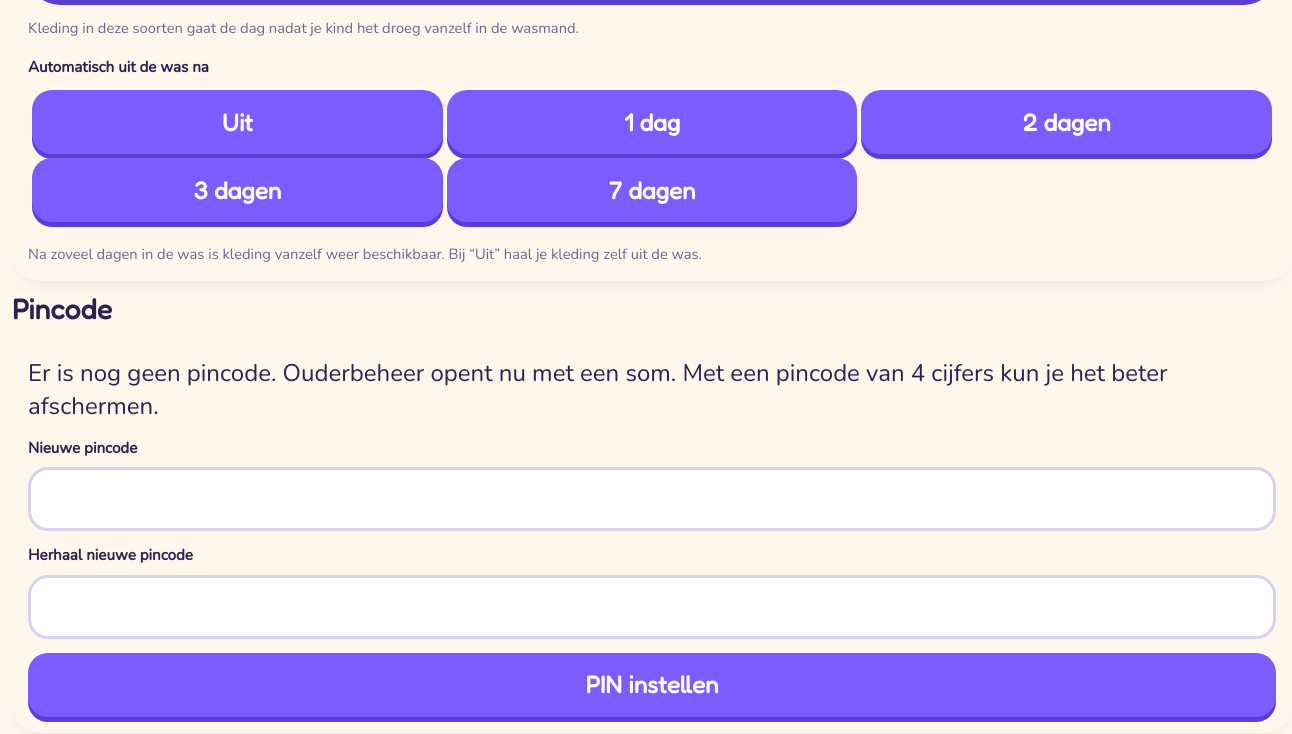
Test: pincode instellen › weigert een PIN die geen 4 cijfers is
The image size is (1292, 734).
(page scrolled)
Expected: the button "PIN instellen" is shown, top-left (28, 653), bottom-right (1276, 717)
In the password field labelled "Nieuwe pincode": (652, 499) top-left (28, 467), bottom-right (1276, 531), type "12a"
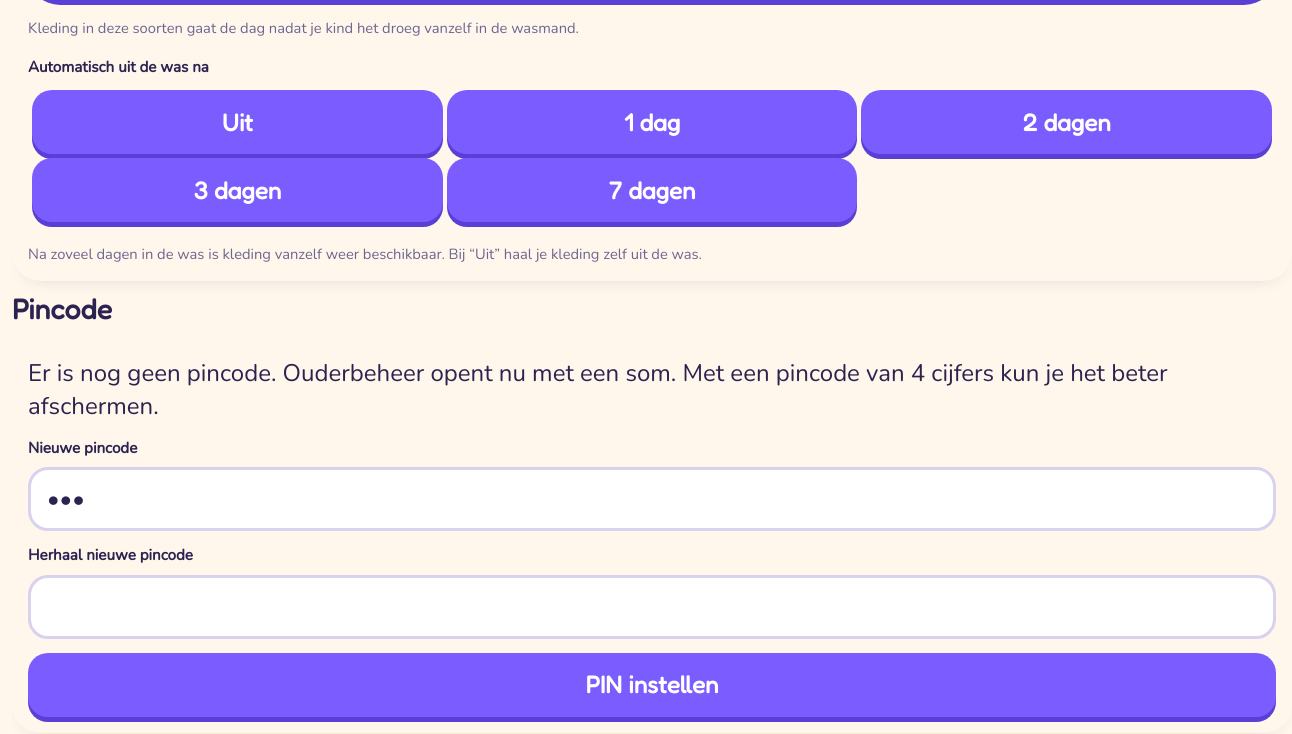
In the password field labelled "Herhaal nieuwe pincode": (652, 607) top-left (28, 575), bottom-right (1276, 639), type "12a"
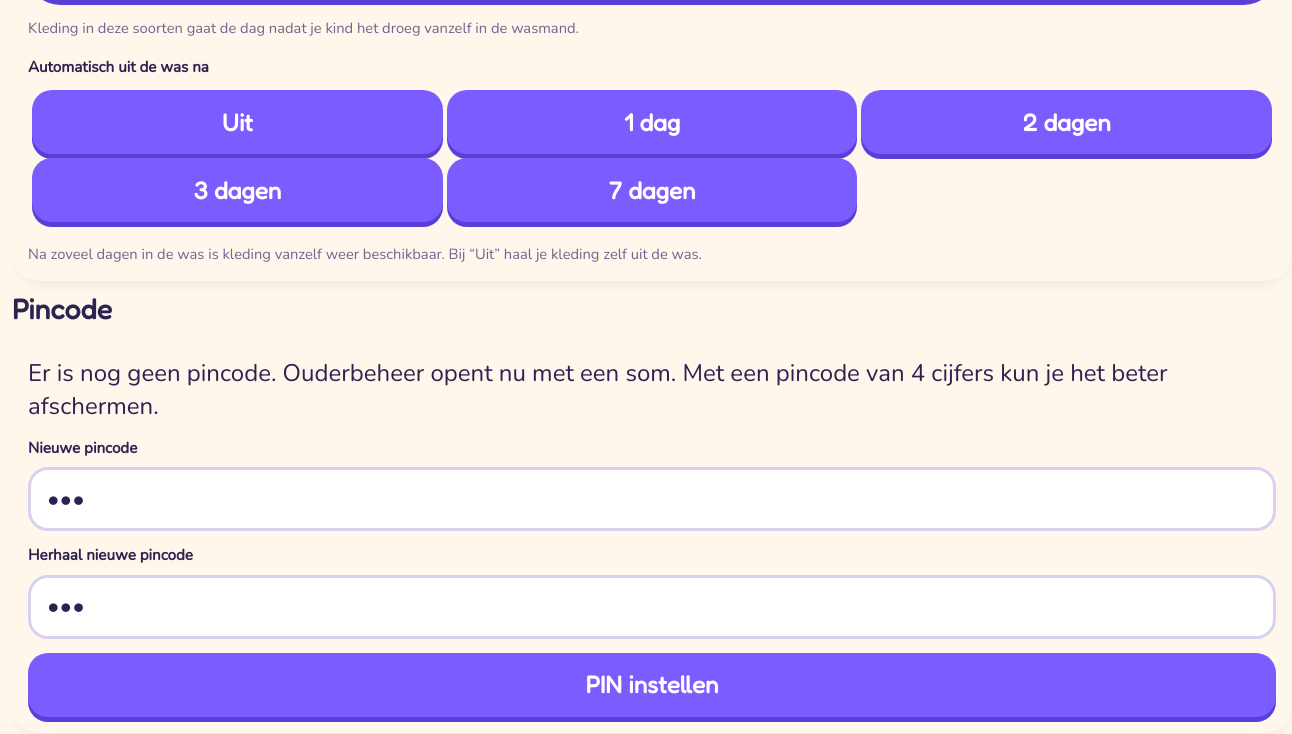
Click the button "PIN instellen": (652, 685) top-left (28, 653), bottom-right (1276, 717)
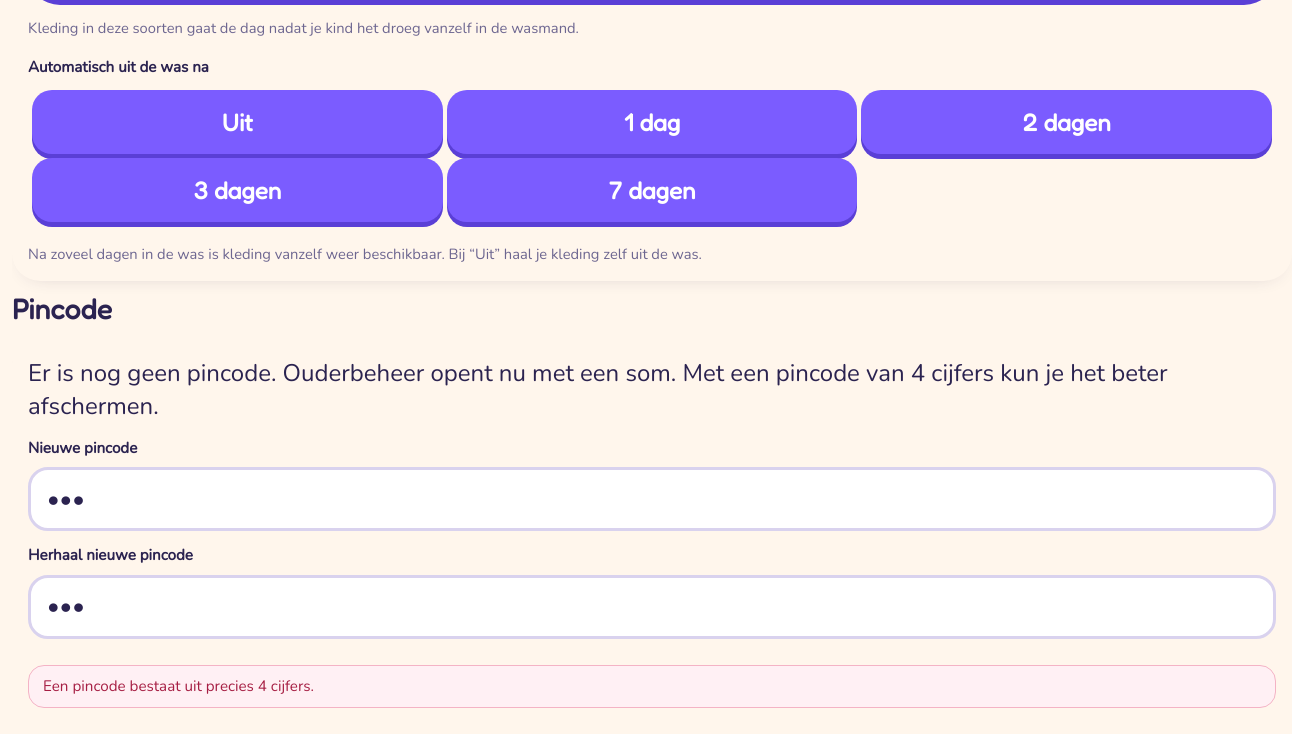
Now the message shows "precies 4 cijfers", box top-left (43, 676), bottom-right (314, 696)
